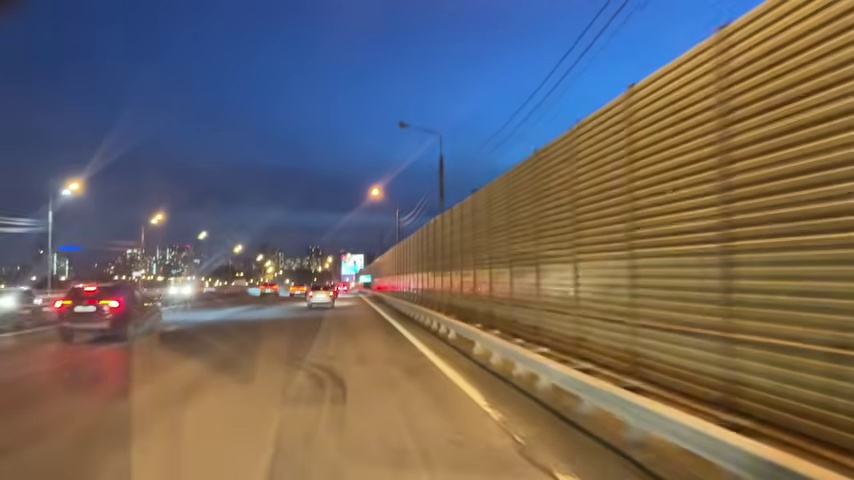acesa: (62, 176, 85, 197), (148, 209, 167, 228), (366, 183, 385, 202), (231, 242, 245, 256), (195, 230, 209, 243)
